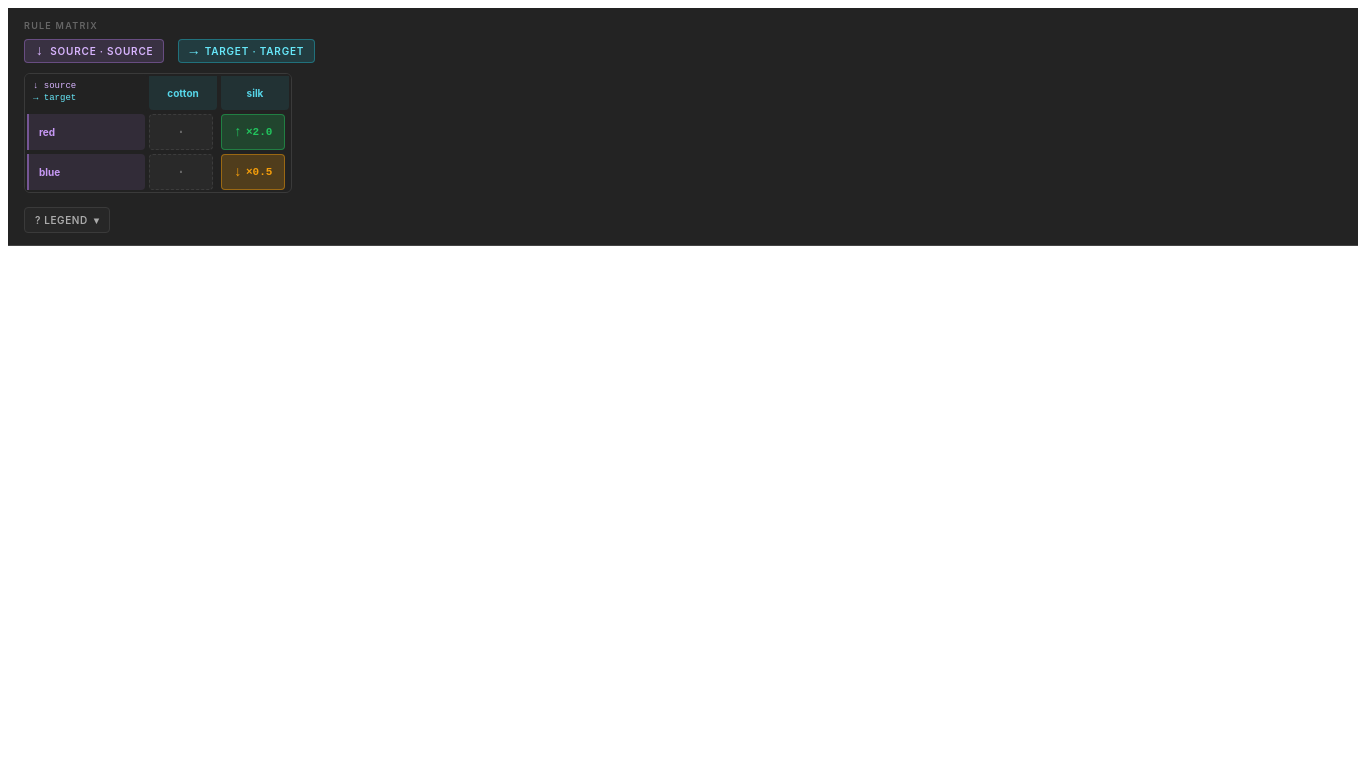
constraint MatrixSection — popover › clicking a cell opens the rule popover
Click the button with test id "mx-cell-red-cotton".
click(181, 132)  # box [149,114,213,150]
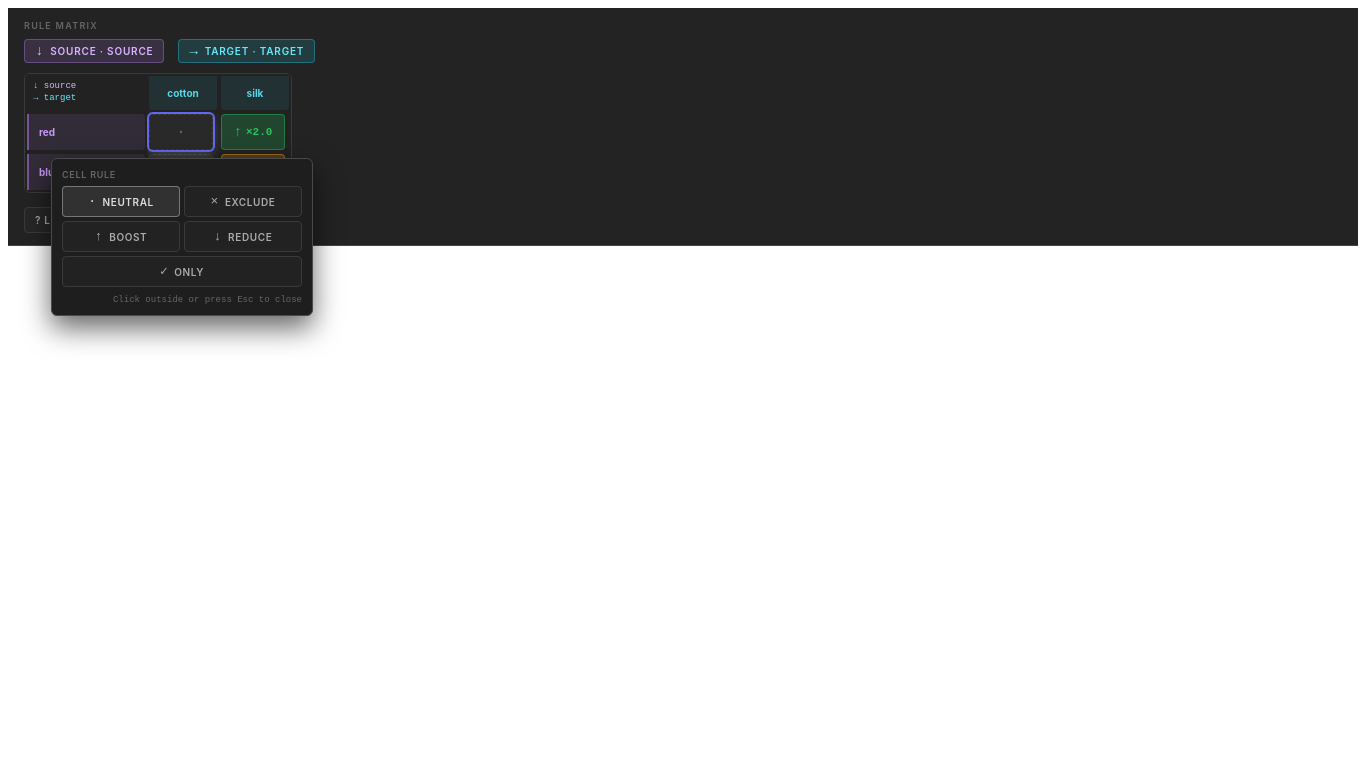
expect the dialog is shown: met, box [51,158,313,316]
